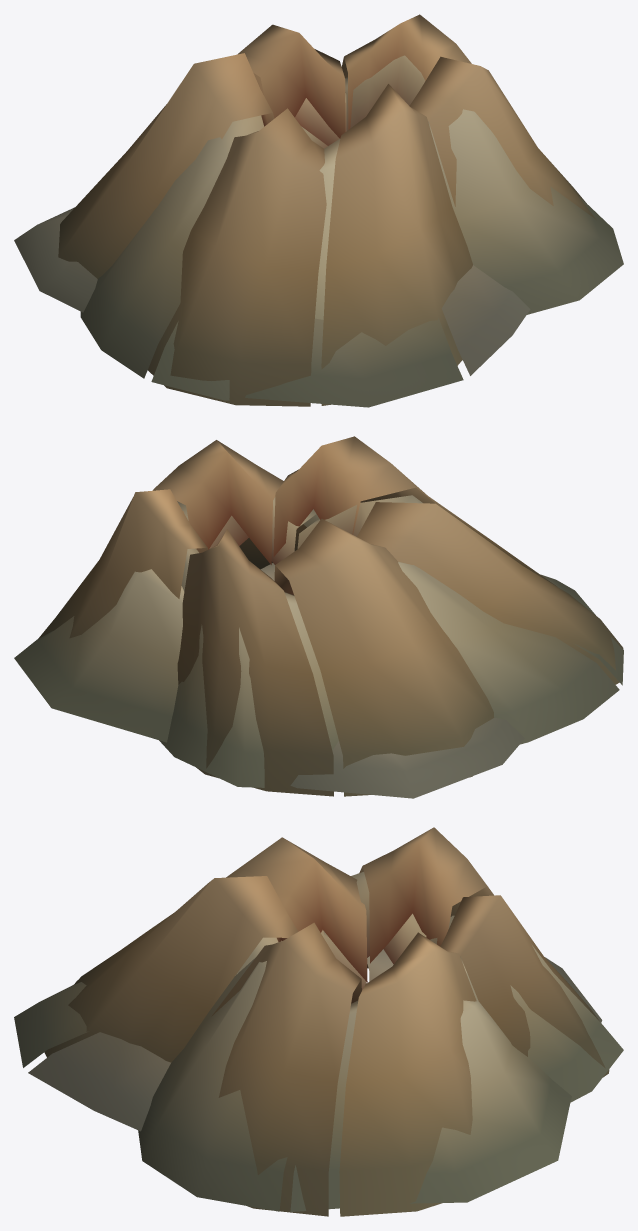
Rendered from specimens-near.glb.
3 views of the same model, one above another, from view 1: azimuth 30°, elevation 25°; view 2: azimuth 150°, elevation 25°; view 3: azimuth 270°, elevation 25° (orthographic). The views are drawn at different scales.
Visible parts, largest first — view 1: SeaCup2, SeaCup1, SeaCup3; view 2: SeaCup2, SeaCup1, SeaCup3; view 3: SeaCup2, SeaCup3, SeaCup1.
Boxes of the visible parts, x1,y1,x2,y2 form: SeaCup2: [58, 14, 596, 406]; SeaCup1: [80, 55, 623, 400]; SeaCup3: [14, 93, 530, 407]; SeaCup2: [38, 436, 623, 796]; SeaCup1: [159, 495, 623, 787]; SeaCup3: [14, 563, 595, 798]; SeaCup2: [44, 827, 609, 1216]; SeaCup3: [14, 931, 602, 1203]; SeaCup1: [138, 871, 623, 1212].
Bounding box in the file's own units: 1.9 × 0.7366 × 1.86.
